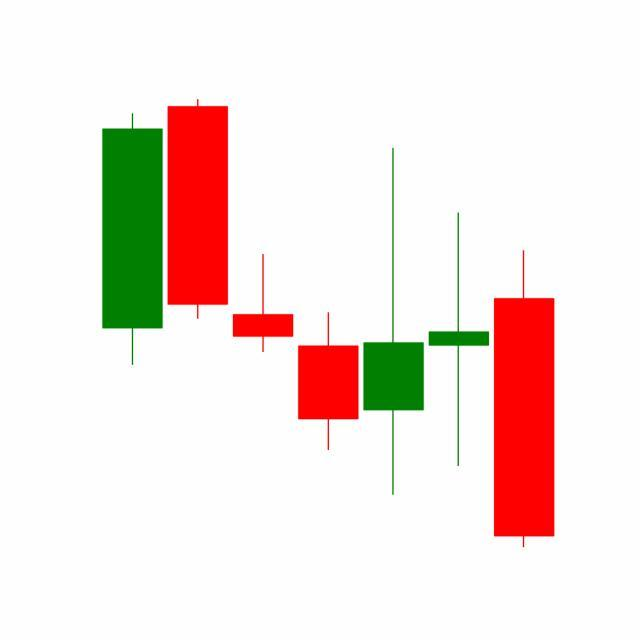Hikkake Pattern: (229, 143, 555, 548)
